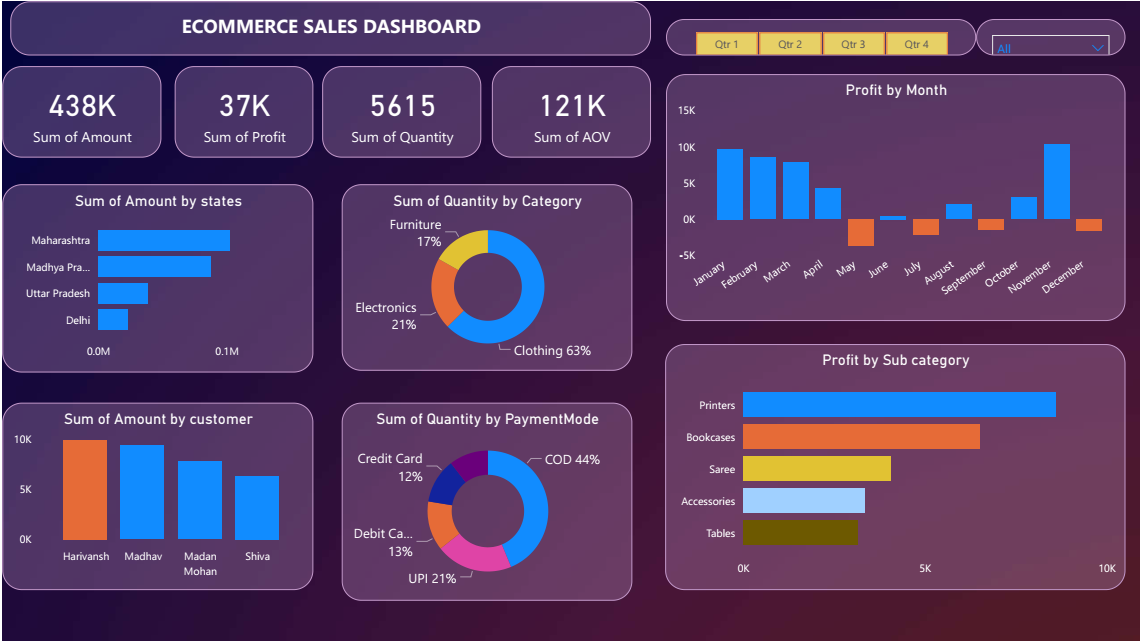

Layout of this report page (visuals, bound fields, positions):
{"tool":"powerbi","page":{"name":"Page 1","canvas":[1280,720],"ordinal":0},"visuals":[{"type":"textbox","box":[9.1,0,720.8,60.6],"z":0},{"type":"columnChart","title":"Profit by Month","fields":{"Category":["Orders.Order Date.Variation.Date Hierarchy.Month"],"Y":["Details.Profit"]},"box":[746.5,81.8,517.9,278.6],"z":1000},{"type":"barChart","title":"Profit by Sub category","fields":{"Y":["Details.Profit"],"Category":["Details.Sub-Category"]},"box":[746.5,385.5,517.8,277.8],"z":2000},{"type":"donutChart","fields":{"Category":["Details.Category"],"Y":["Details.Quantity"]},"box":[381.7,206,326.9,209.8],"z":3000},{"type":"donutChart","fields":{"Category":["Details.PaymentMode"],"Y":["Details.Quantity"]},"box":[381.7,451.7,326.9,223],"z":4000},{"type":"card","fields":{"Values":["Details.Amount"]},"box":[0,72.7,178.7,103],"z":5000},{"type":"card","fields":{"Values":["Details.Profit"]},"box":[193.8,72.7,156,103],"z":6000},{"type":"card","fields":{"Values":["Details.Quantity"]},"box":[360.4,72.7,178.7,103],"z":7000},{"type":"card","fields":{"Values":["Details.AOV"]},"box":[551.2,72.7,178.7,103],"z":8000},{"type":"barChart","title":"Sum of Amount by states","fields":{"Y":["Details.Amount"],"Category":["Orders.State"]},"box":[0,206,349.6,211.7],"z":8001},{"type":"columnChart","title":"Sum of Amount by states","fields":{"Category":["Orders.CustomerName"],"Y":["Details.Amount"]},"box":[0,451.7,349.6,211.7],"z":8002},{"type":"slicer","fields":{"Values":["Orders.Order Date.Variation.Date Hierarchy.Quarter"]},"box":[746.5,19.7,349.8,40.9],"z":8003},{"type":"slicer","fields":{"Values":["Orders.State"]},"box":[1096.3,19.7,168.1,40.9],"z":8004}]}

Visuals, with their boxes in screenshot pixels (x1, y1, x2, y2), scaled from the page's 1280x720 canvas onto the 1140x642 screenshot:
textbox: left=8, top=0, right=650, bottom=54
"Profit by Month" columnChart: left=665, top=73, right=1126, bottom=321
"Profit by Sub category" barChart: left=665, top=344, right=1126, bottom=591
donutChart - Details.Category x Details.Quantity: left=340, top=184, right=631, bottom=371
donutChart - Details.PaymentMode x Details.Quantity: left=340, top=403, right=631, bottom=602
card - Details.Amount: left=0, top=65, right=159, bottom=157
card - Details.Profit: left=173, top=65, right=312, bottom=157
card - Details.Quantity: left=321, top=65, right=480, bottom=157
card - Details.AOV: left=491, top=65, right=650, bottom=157
"Sum of Amount by states" barChart: left=0, top=184, right=311, bottom=372
"Sum of Amount by states" columnChart: left=0, top=403, right=311, bottom=592
slicer - Orders.Order Date.Variation.Date Hierarchy.Quarter: left=665, top=18, right=976, bottom=54
slicer - Orders.State: left=976, top=18, right=1126, bottom=54
